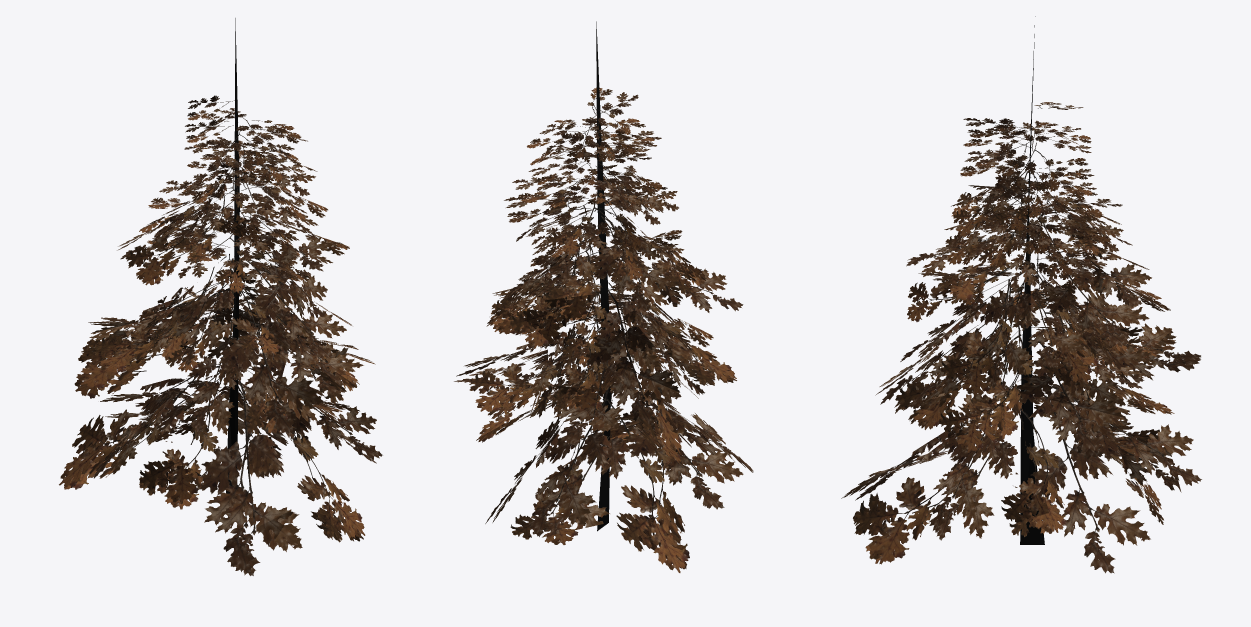
File: spruce3 lod3.FBX
3 renders of one model, left to right at view 1: azimuth 30°, elevation 25°; view 2: azimuth 150°, elevation 25°; view 3: azimuth 270°, elevation 25°, orthographic. The views are drawn at different scales.
Parts seen in each view (by area): view 1: spruce3_LOD3; view 2: spruce3_LOD3; view 3: spruce3_LOD3.
Boxes of the visible parts, bbox=[...] form: spruce3_LOD3: bbox=[59, 18, 382, 575]; spruce3_LOD3: bbox=[454, 21, 753, 572]; spruce3_LOD3: bbox=[841, 16, 1201, 573].
Size of the model in its own units: 59037 by 97928 by 68053.
